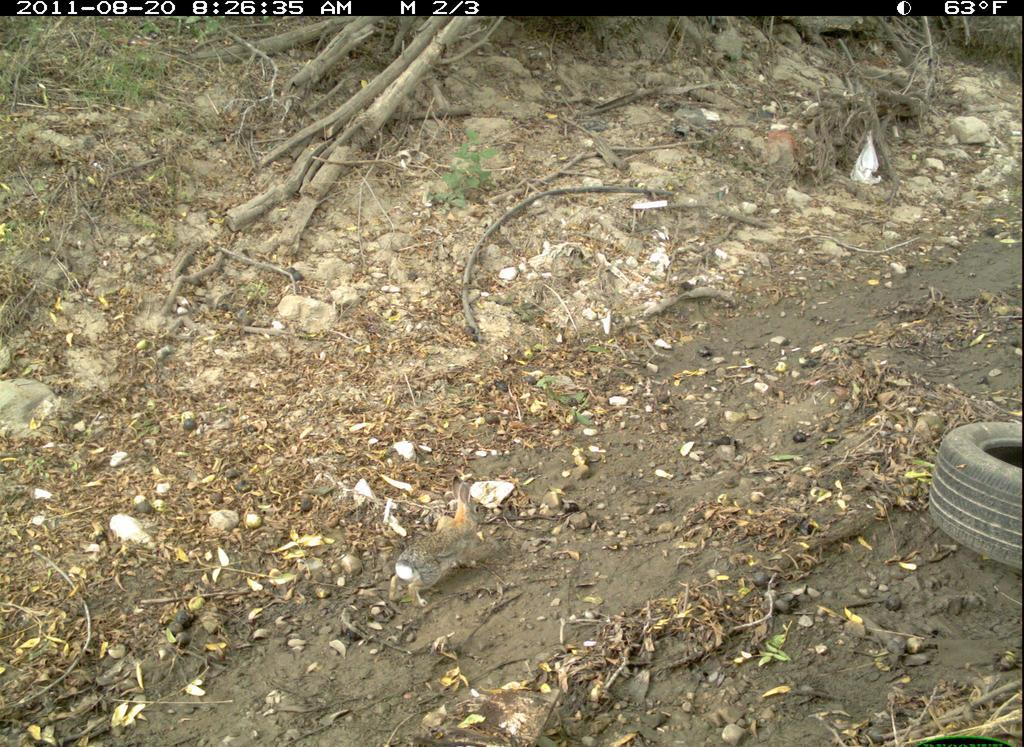rabbit: (379, 470, 527, 614)
